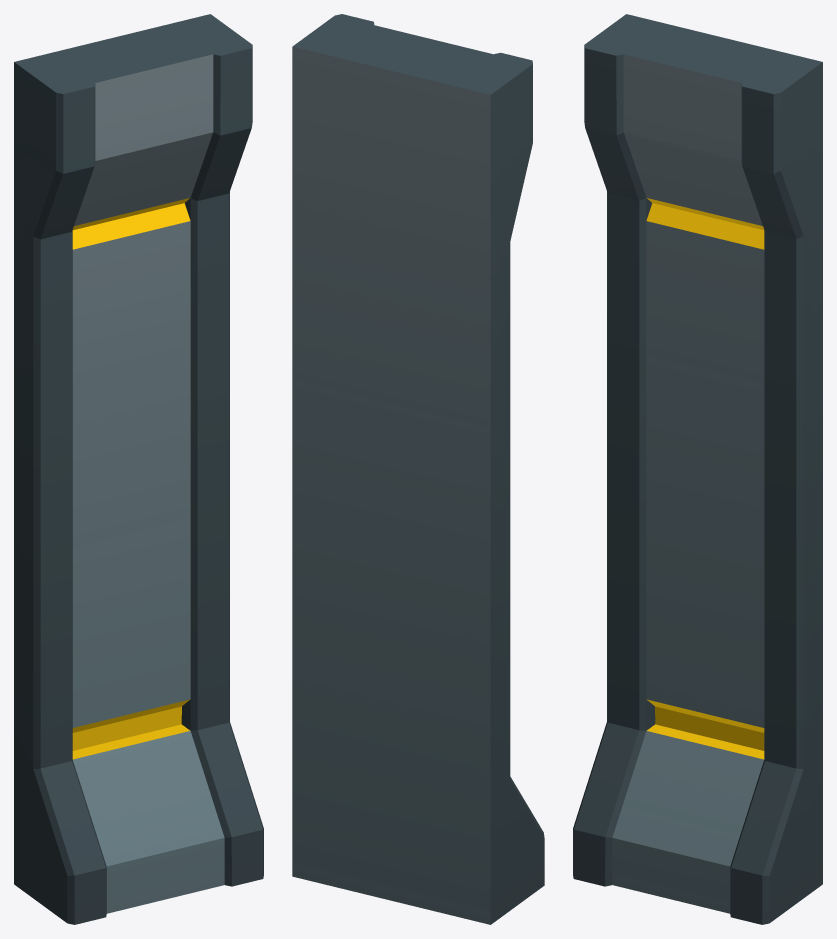
The model's file is Wall_type_C_005.fbx.
3 views of the same model, side by side, from view 1: azimuth 30°, elevation 25°; view 2: azimuth 150°, elevation 25°; view 3: azimuth 330°, elevation 25° (orthographic).
Visible parts, largest first — view 1: Wall_type_C_005; view 2: Wall_type_C_005; view 3: Wall_type_C_005.
Part boxes in pixels (x1,y1,x2,y2): Wall_type_C_005: [14, 14, 263, 924]; Wall_type_C_005: [292, 14, 544, 924]; Wall_type_C_005: [573, 14, 822, 924].
Size of the model in its own units: 100 by 50 by 400.
